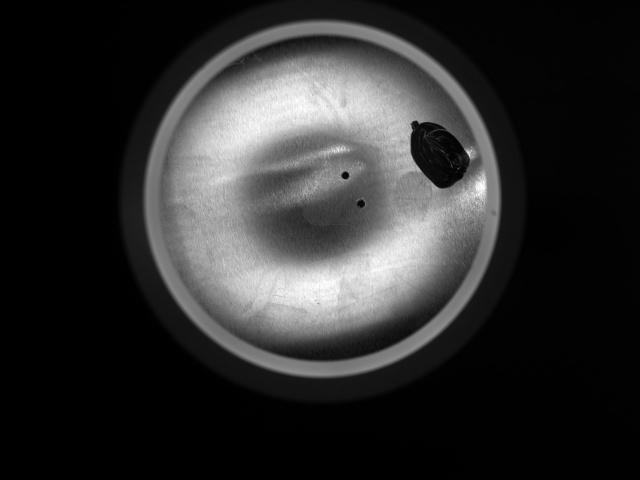zang_wu: (408, 117, 473, 189)
zhen_kong: (354, 196, 367, 210), (339, 168, 352, 181)
